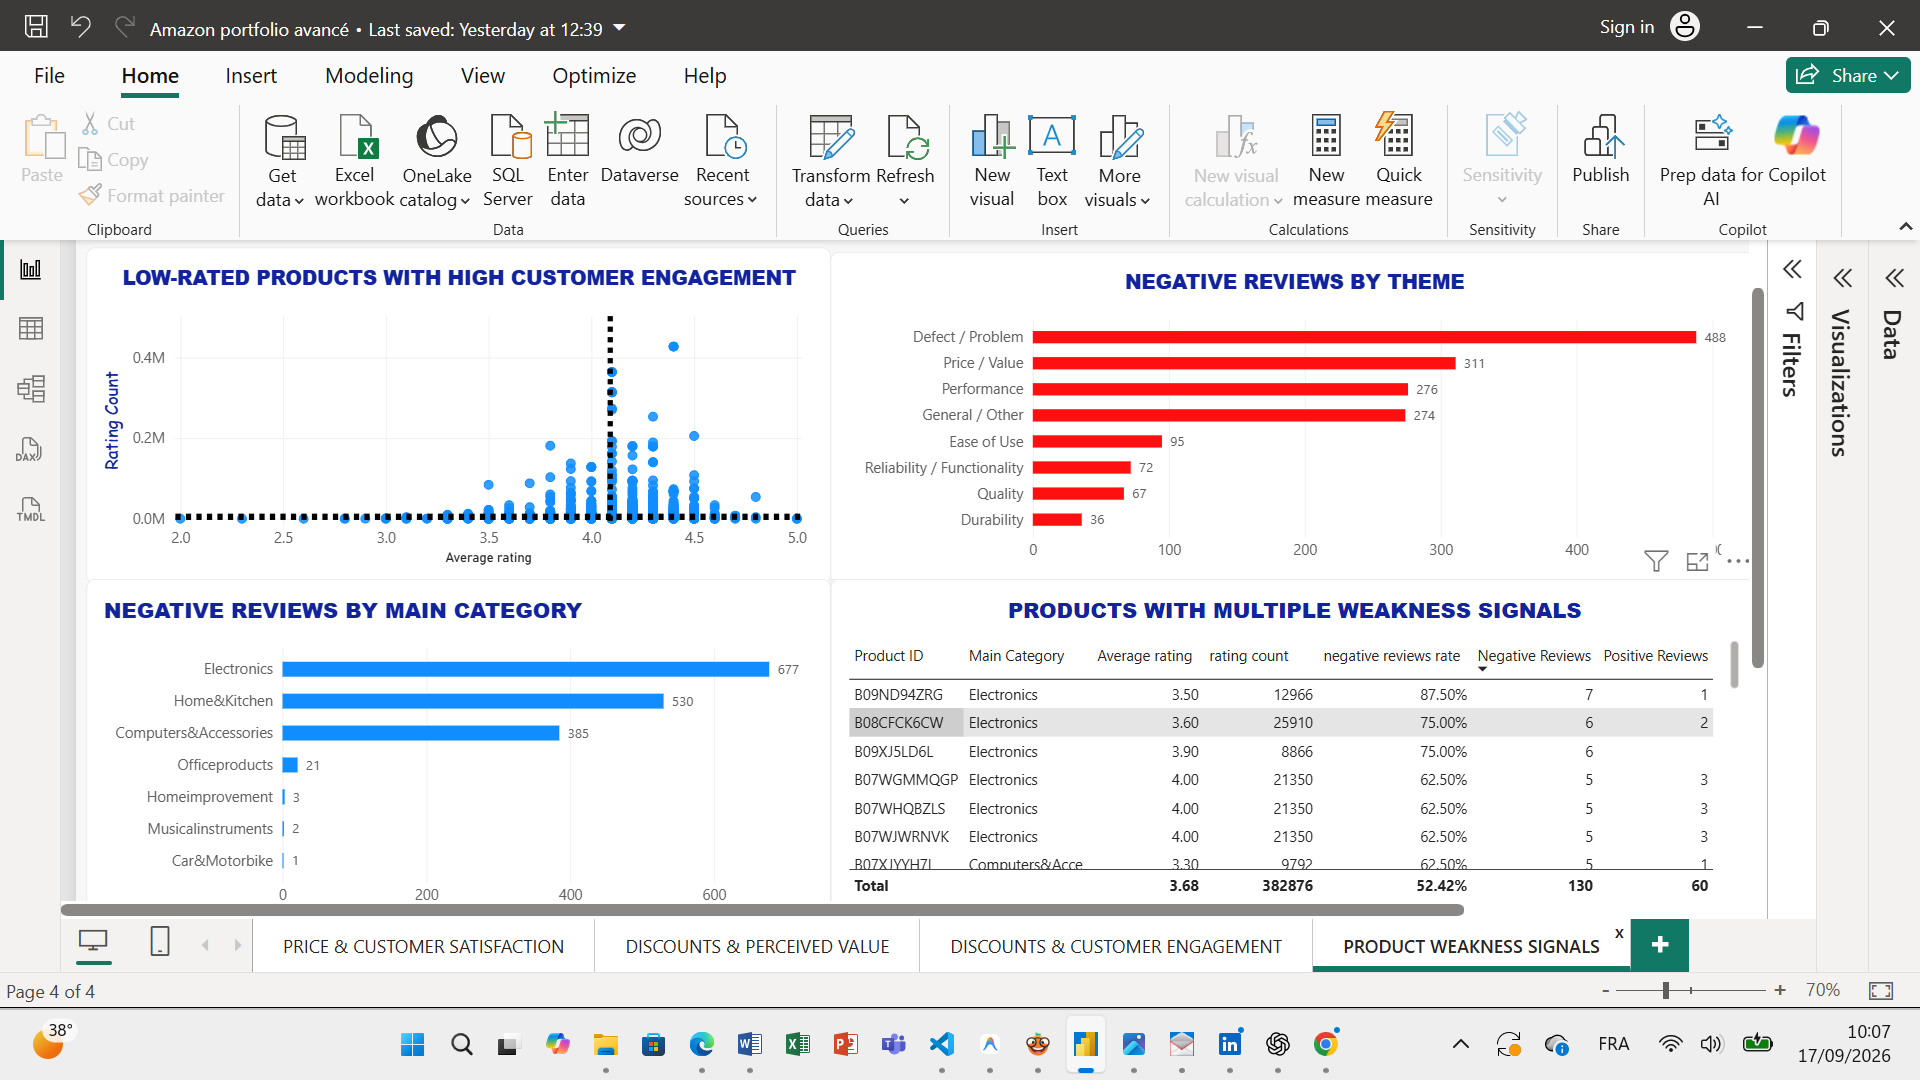

This screenshot's page, from the dashboard's own definition file:
{"tool":"powerbi","page":{"name":"PRODUCT WEAKNESS SIGNALS","canvas":[1920,1080],"ordinal":3},"visuals":[{"type":"scatterChart","title":"LOW-RATED PRODUCTS WITH HIGH CUSTOMER ENGAGEMENT","fields":{"Category":["Products.product_id"],"X":["Avg(Products.rating)"],"Y":["Sum(Products.rating_count)"]},"box":[0,0,850,320.3],"z":0},{"type":"clusteredBarChart","title":"NEGATIVE REVIEWS BY THEME","fields":{"Category":["reviews_analysis.review_theme"],"Y":["Products.Negative Reviews Count"]},"box":[850,3.1,896.9,315.6],"z":1000},{"type":"clusteredBarChart","title":"NEGATIVE REVIEWS BY MAIN CATEGORY","fields":{"Category":["Products.Main category"],"Y":["Products.Negative Reviews Count"]},"box":[0,320.3,850,350],"z":2000},{"type":"tableEx","title":"PRODUCTS WITH MULTIPLE WEAKNESS SIGNALS","fields":{"Values":["Products.product_id","Products.Main category","Avg(Products.rating)","Sum(Products.rating_count)","reviews_analysis.negative rate reviews","Products.Negative Reviews Count","reviews_analysis.Positive Reviews Count"]},"box":[850,320.3,896.9,350],"z":3000}]}

Visuals, with their boxes on the page's 1920x1080 design canvas (x1, y1, x2, y2). These are canvas units, not pixel positions in the 1920x1080 screenshot, which may show the page scaled, cropped or inside an application window:
"LOW-RATED PRODUCTS WITH HIGH CUSTOMER ENGAGEMENT" scatterChart: BBox(0, 0, 850, 320)
"NEGATIVE REVIEWS BY THEME" clusteredBarChart: BBox(850, 3, 1747, 319)
"NEGATIVE REVIEWS BY MAIN CATEGORY" clusteredBarChart: BBox(0, 320, 850, 670)
"PRODUCTS WITH MULTIPLE WEAKNESS SIGNALS" tableEx: BBox(850, 320, 1747, 670)
